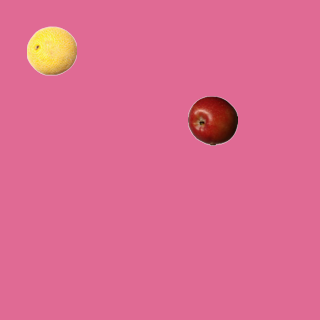Apple Braeburn: (187, 95, 237, 145)
Cantaloupe 1: (26, 25, 76, 75)
